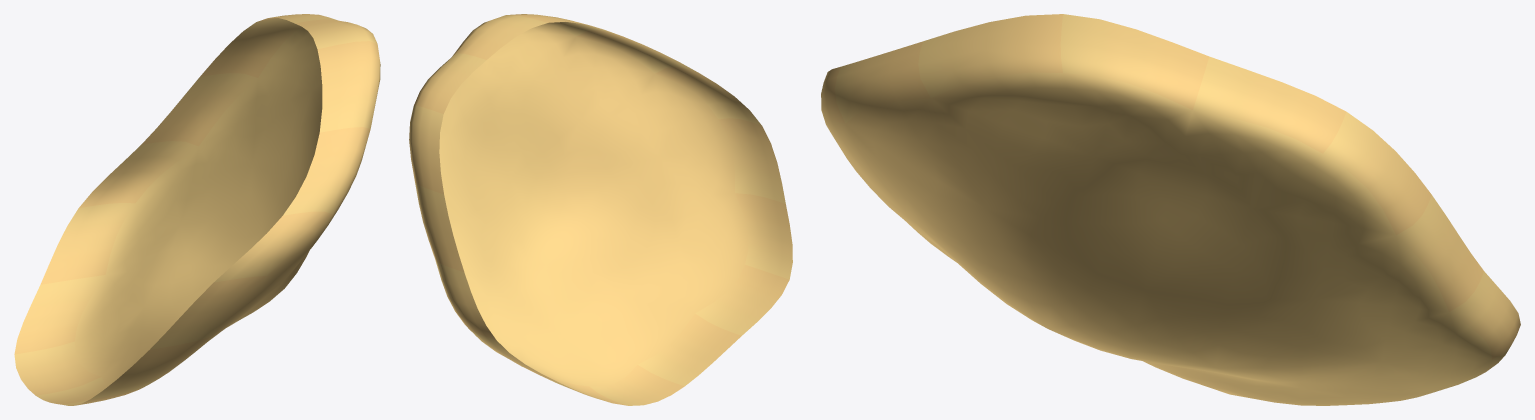
File: audtra.fbx
3 renders of one model, left to right at view 1: azimuth 30°, elevation 25°; view 2: azimuth 150°, elevation 25°; view 3: azimuth 270°, elevation 25°, orthographic. The views are drawn at different scales.
Visible parts, largest first — view 1: Continents.001; view 2: Continents.001; view 3: Continents.001.
Part boxes in pixels (left/top/right/bottom): Continents.001: left=14, top=14, right=380, bottom=405; Continents.001: left=409, top=14, right=792, bottom=405; Continents.001: left=821, top=14, right=1520, bottom=405.
Size of the model in its own units: 47.39 by 45.73 by 56.07.
